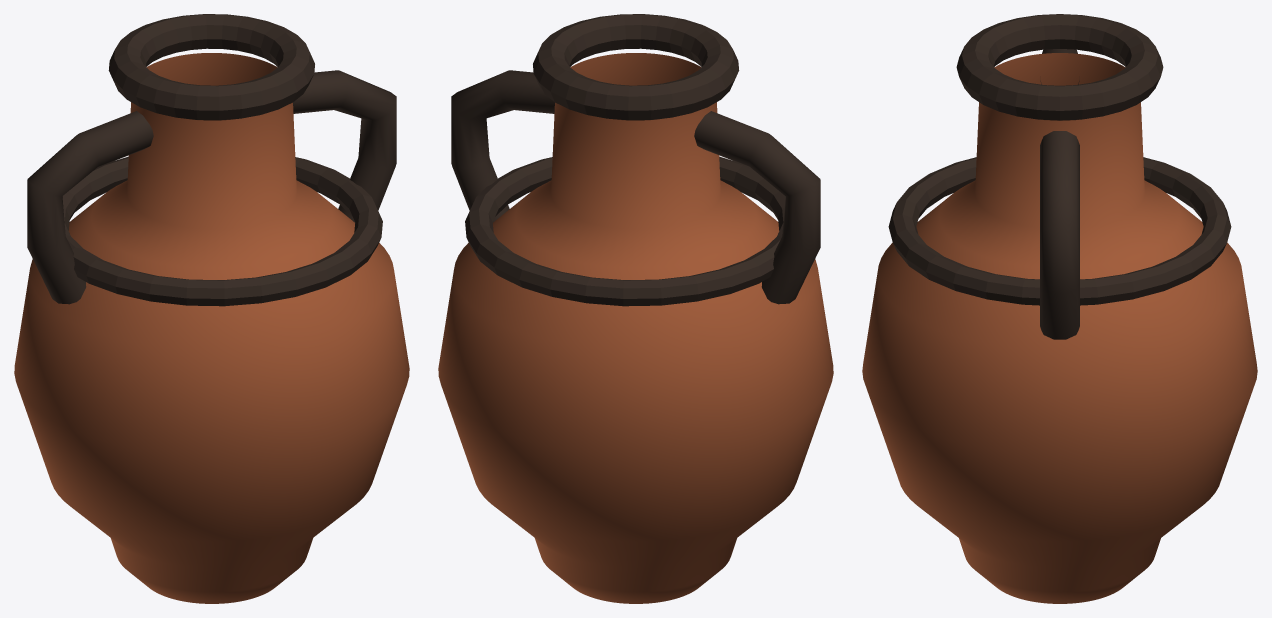
File: Greek_Amphora.fbx
3 renders of one model, left to right at view 1: azimuth 30°, elevation 25°; view 2: azimuth 150°, elevation 25°; view 3: azimuth 270°, elevation 25°, orthographic.
Visible parts, largest first — view 1: Greek_Amphora - Attic Red Clay, Greek_Amphora - Attic Black Glaze; view 2: Greek_Amphora - Attic Red Clay, Greek_Amphora - Attic Black Glaze; view 3: Greek_Amphora - Attic Red Clay, Greek_Amphora - Attic Black Glaze.
Boxes of the visible parts, x1=… form: Greek_Amphora - Attic Red Clay: x1=14, y1=53, x2=409, y2=603; Greek_Amphora - Attic Black Glaze: x1=27, y1=14, x2=396, y2=306; Greek_Amphora - Attic Red Clay: x1=438, y1=53, x2=833, y2=603; Greek_Amphora - Attic Black Glaze: x1=451, y1=14, x2=820, y2=306; Greek_Amphora - Attic Red Clay: x1=862, y1=53, x2=1257, y2=603; Greek_Amphora - Attic Black Glaze: x1=888, y1=14, x2=1231, y2=339.
Size of the model in its own units: 2.72 by 3.74 by 2.56.
